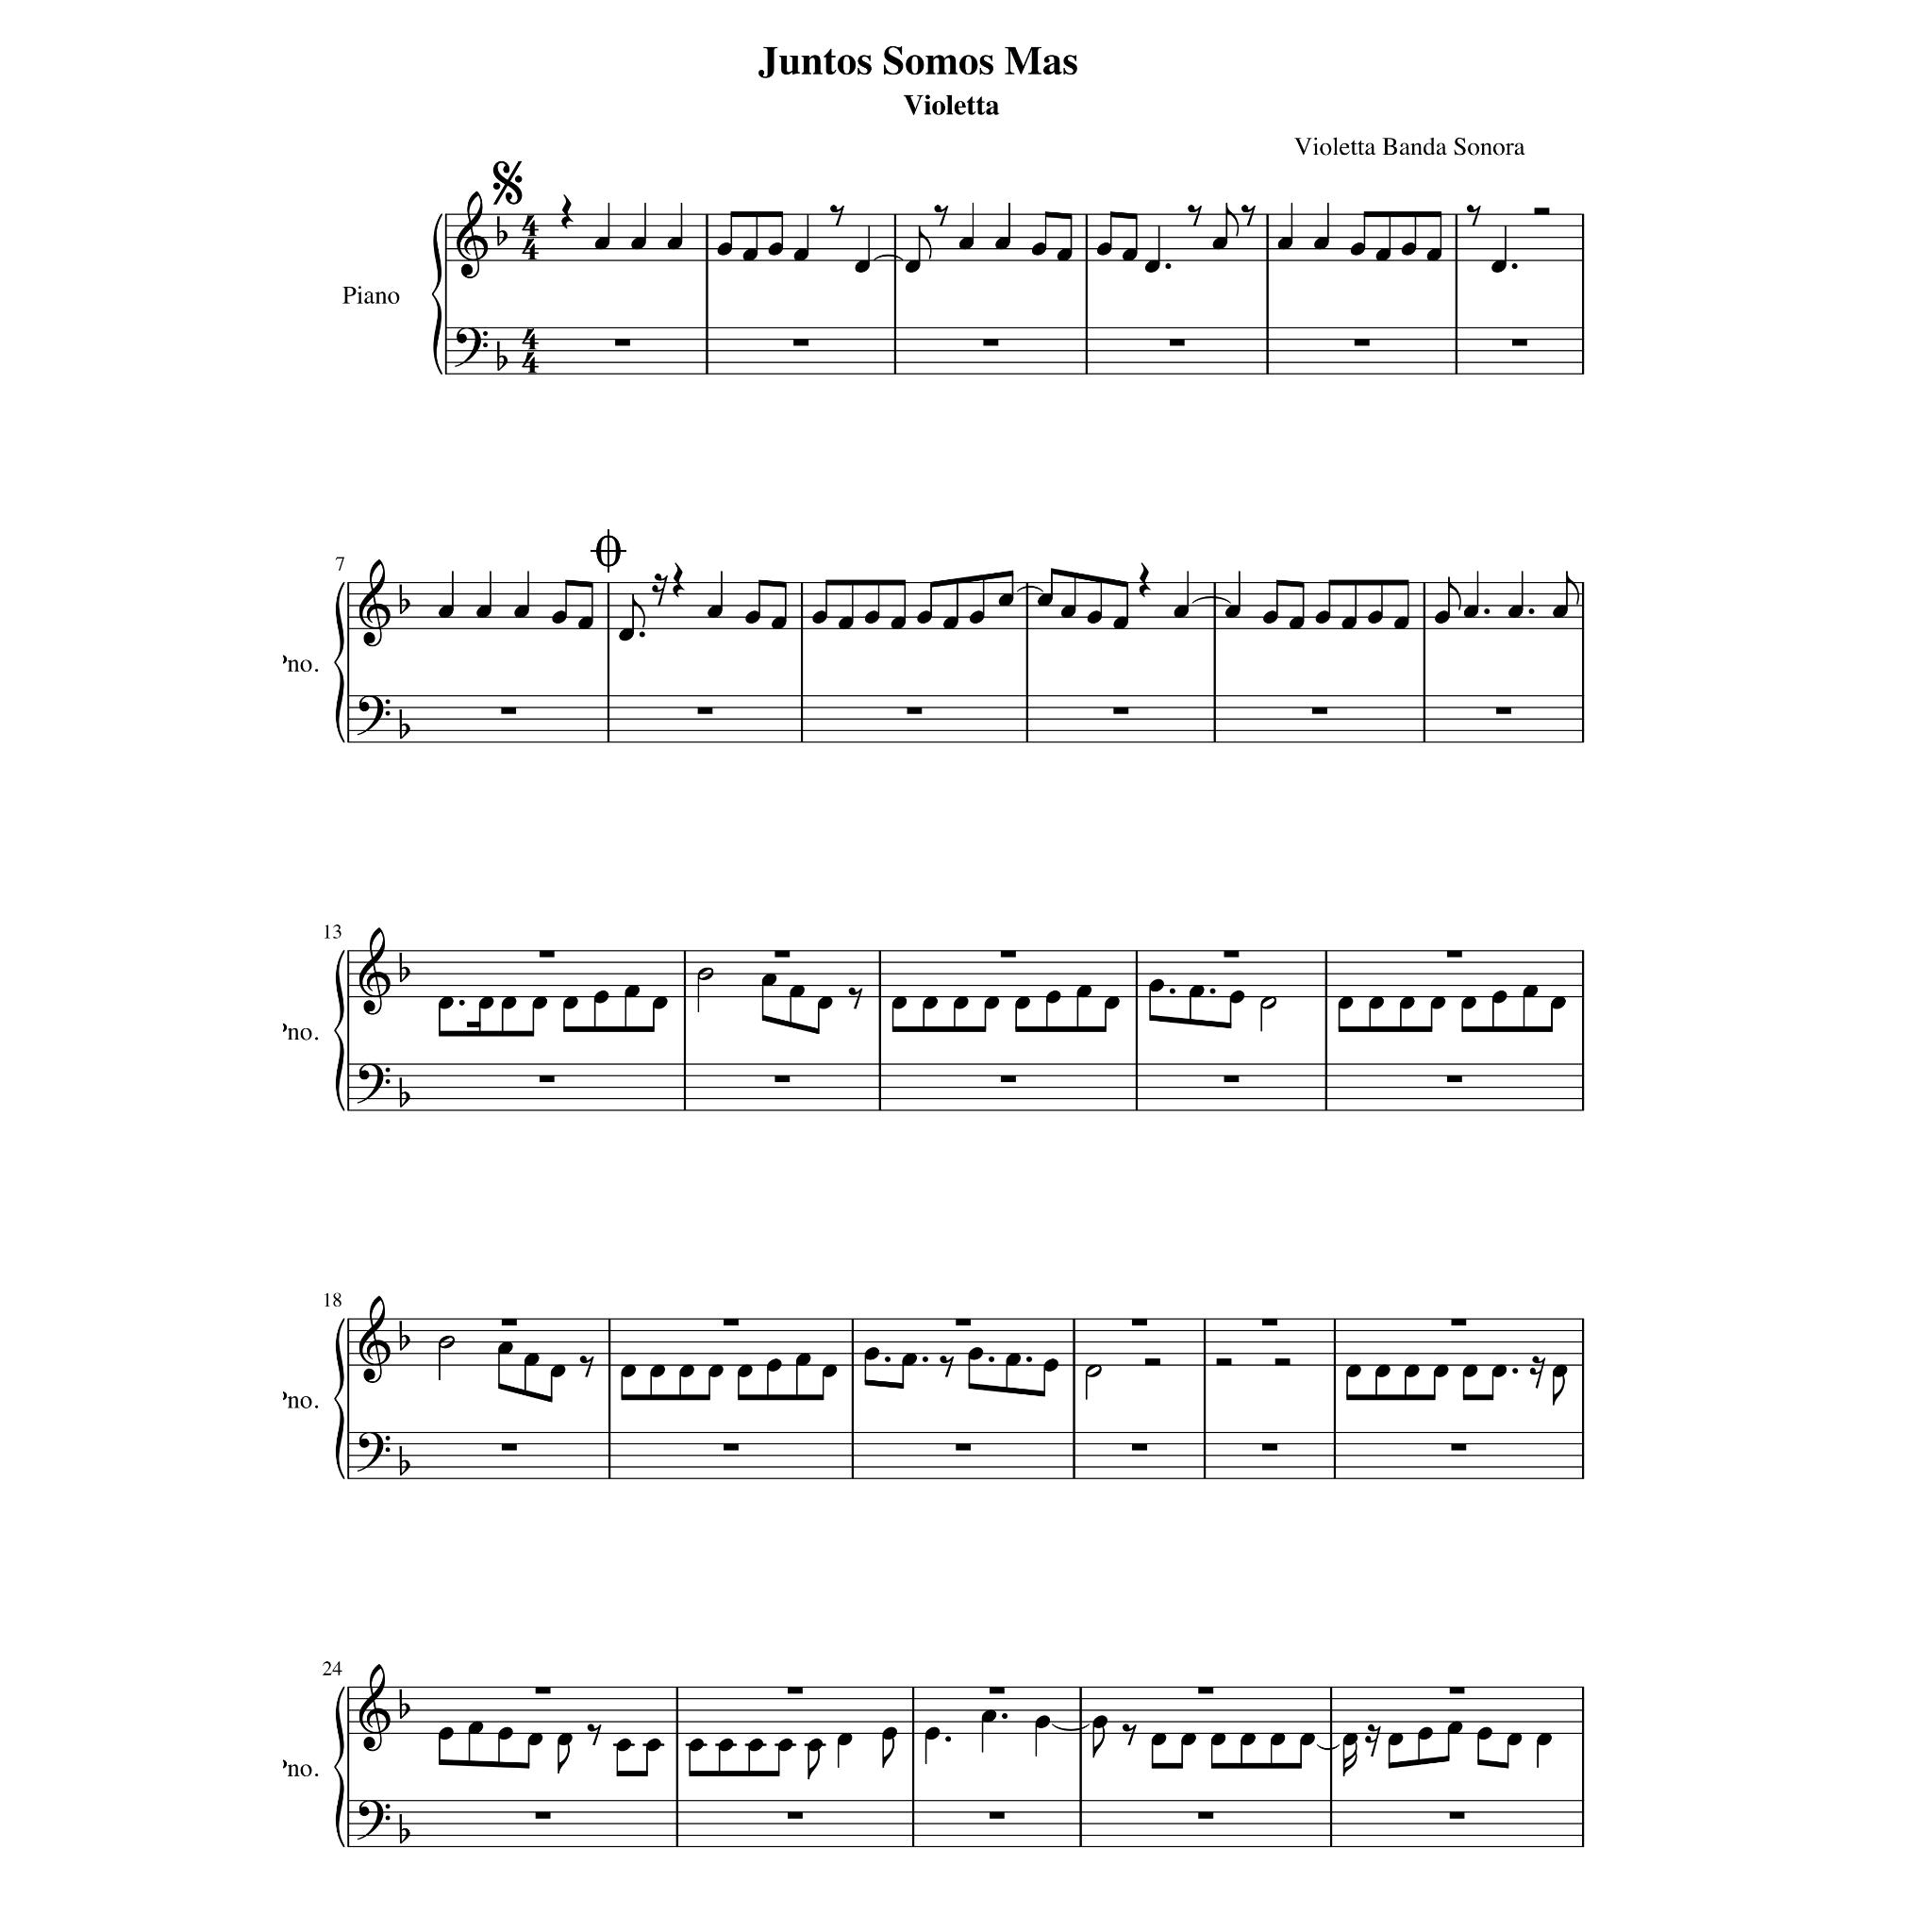brace: (333, 580, 345, 743), (333, 950, 345, 1113), (333, 1318, 345, 1481), (333, 1686, 345, 1849), (432, 214, 442, 375)
fClef: (453, 327, 488, 368), (357, 695, 391, 736), (357, 1063, 391, 1104), (357, 1431, 391, 1472), (357, 1799, 391, 1840)
flag16thDown: (1343, 1743, 1357, 1776)
flag8thDown: (1552, 1371, 1564, 1407), (1093, 1723, 1106, 1759), (809, 1744, 821, 1780), (557, 1739, 570, 1773), (883, 1734, 895, 1767)
flag8thUp: (1447, 577, 1461, 612), (918, 226, 932, 260), (1566, 571, 1580, 605), (632, 594, 646, 628), (1226, 203, 1238, 237)
gClef: (456, 191, 488, 280), (359, 559, 391, 648), (359, 927, 391, 1016), (359, 1295, 391, 1384), (359, 1663, 391, 1752)
noteheadBlack: (1313, 237, 1330, 251), (630, 237, 648, 251), (957, 237, 975, 251), (1014, 996, 1031, 1010), (531, 996, 548, 1010), (816, 996, 833, 1010), (1341, 1732, 1359, 1746), (1299, 1732, 1316, 1746), (1277, 237, 1293, 251), (1122, 248, 1138, 262), (1212, 237, 1228, 251), (1145, 260, 1161, 274), (1490, 260, 1506, 274), (1426, 248, 1442, 262), (1375, 248, 1391, 262), (667, 237, 683, 251), (793, 248, 809, 262), (741, 248, 757, 262), (594, 237, 610, 251), (994, 237, 1010, 251), (1056, 248, 1072, 262), (855, 260, 870, 274), (904, 260, 920, 274), (1037, 593, 1053, 607), (619, 628, 635, 642), (998, 593, 1014, 607), (1338, 996, 1353, 1010), (1104, 996, 1120, 1010), (1148, 978, 1164, 993), (1550, 996, 1566, 1010), (1399, 996, 1415, 1010), (1368, 996, 1384, 1010), (1461, 996, 1477, 1010), (1430, 996, 1445, 1010), (563, 996, 579, 1010), (501, 996, 517, 1010), (984, 996, 1000, 1010), (651, 996, 667, 1010), (478, 996, 494, 1010), (437, 996, 453, 1010), (892, 996, 908, 1010), (954, 996, 970, 1010), (922, 996, 938, 1010), (1346, 1364, 1362, 1378), (1552, 1364, 1568, 1378), (1433, 1364, 1449, 1378), (1403, 1364, 1419, 1378), (1375, 1364, 1391, 1378), (1491, 1364, 1507, 1378), (1461, 1364, 1477, 1378), (621, 1364, 637, 1378), (550, 1364, 566, 1378), (649, 1364, 665, 1378), (679, 1364, 695, 1378), (497, 1341, 513, 1355), (863, 1346, 879, 1361), (821, 1364, 837, 1378), (738, 1364, 754, 1378), (968, 1346, 984, 1361), (708, 1364, 724, 1378), (1269, 1732, 1284, 1746), (1240, 1732, 1256, 1746), (1210, 1732, 1226, 1746), (1092, 1714, 1108, 1729), (1180, 1732, 1196, 1746), (1150, 1732, 1166, 1746), (1536, 1732, 1552, 1746), (1387, 1732, 1403, 1746), (1477, 1727, 1493, 1741), (1417, 1727, 1433, 1741), (557, 1732, 573, 1746), (527, 1732, 543, 1746), (497, 1727, 513, 1741), (437, 1727, 453, 1741), (924, 1727, 939, 1741), (881, 1727, 897, 1741), (980, 1709, 996, 1723), (1228, 991, 1246, 1003), (1042, 1359, 1060, 1371), (901, 1353, 918, 1366), (644, 1739, 662, 1752), (1035, 1714, 1049, 1729), (1507, 1732, 1522, 1746), (837, 1732, 851, 1746), (1350, 242, 1366, 255), (1401, 242, 1417, 255), (717, 242, 732, 255), (768, 242, 784, 255), (1097, 242, 1113, 255), (1031, 242, 1047, 255), (1224, 605, 1240, 617), (1315, 610, 1330, 623), (1288, 617, 1304, 630), (1263, 610, 1279, 623), (1060, 605, 1076, 617), (1173, 605, 1189, 617), (1113, 617, 1129, 630), (1086, 610, 1102, 623), (1552, 605, 1568, 617), (1507, 605, 1523, 617), (1433, 610, 1449, 623), (1368, 610, 1384, 623), (1341, 617, 1357, 630), (1463, 605, 1479, 617), (579, 617, 594, 630), (708, 605, 724, 617), (552, 610, 568, 623), (513, 605, 529, 617), (476, 605, 492, 617), (437, 605, 453, 617), (745, 610, 761, 623), (941, 617, 957, 630), (839, 617, 855, 630), (890, 617, 906, 630), (916, 610, 932, 623), (863, 610, 879, 623), (770, 617, 786, 630), (968, 610, 984, 623), (812, 610, 828, 623), (1189, 985, 1205, 998), (1076, 985, 1092, 998), (1046, 991, 1062, 1003), (1522, 985, 1537, 998), (1491, 991, 1507, 1003), (593, 991, 609, 1003), (625, 985, 640, 998), (789, 985, 805, 998), (761, 973, 777, 985), (1005, 1353, 1021, 1366), (524, 1353, 540, 1366), (766, 1359, 782, 1371), (794, 1353, 810, 1366), (1447, 1721, 1463, 1734), (616, 1739, 632, 1752), (688, 1739, 704, 1752), (467, 1721, 483, 1734), (807, 1739, 823, 1752), (748, 1739, 764, 1752), (718, 1739, 734, 1752), (777, 1739, 793, 1752), (1394, 617, 1408, 630)
noteheadHalf: (697, 968, 715, 982), (1085, 1364, 1102, 1378), (1260, 996, 1276, 1010), (437, 1336, 455, 1348)
rest16th: (651, 573, 669, 607), (1529, 1355, 1546, 1389), (1364, 1723, 1382, 1757)
rest8th: (1240, 205, 1256, 228), (932, 205, 948, 228), (847, 987, 863, 1010), (579, 1355, 594, 1378), (1122, 1723, 1138, 1746), (1187, 205, 1201, 228), (1467, 205, 1481, 228), (830, 205, 844, 228), (939, 1355, 954, 1378), (587, 1723, 602, 1746)
restHalf: (1534, 207, 1550, 216), (1274, 1359, 1290, 1366), (1215, 1359, 1231, 1366), (1145, 1359, 1161, 1366)
restQuarter: (561, 195, 573, 230), (1138, 563, 1150, 598), (672, 563, 685, 598)
restWhole: (773, 950, 791, 959), (1000, 950, 1017, 959), (1223, 950, 1238, 959), (1447, 950, 1463, 959), (538, 950, 554, 959), (724, 1318, 740, 1327), (955, 1318, 971, 1327), (1131, 1318, 1146, 1327), (1261, 1318, 1277, 1327), (1451, 1318, 1467, 1327), (501, 1318, 517, 1327), (787, 1686, 803, 1695), (989, 1686, 1005, 1695), (1198, 1686, 1214, 1695), (1449, 1686, 1465, 1695), (534, 1686, 550, 1695), (1511, 340, 1529, 347), (773, 1076, 791, 1083), (1000, 1076, 1017, 1083), (793, 340, 809, 347), (982, 340, 998, 347), (1168, 340, 1184, 347), (1353, 340, 1369, 347), (614, 340, 630, 347), (697, 708, 713, 715), (906, 708, 922, 715), (1113, 708, 1129, 715), (1311, 708, 1327, 715), (1495, 708, 1511, 715), (501, 708, 517, 715), (1223, 1076, 1238, 1083), (538, 1076, 554, 1083), (1447, 1076, 1463, 1083), (724, 1444, 740, 1451), (955, 1444, 971, 1451), (1131, 1444, 1146, 1451), (1261, 1444, 1277, 1451), (501, 1444, 517, 1451), (1451, 1444, 1467, 1451), (787, 1812, 803, 1819), (989, 1812, 1005, 1819), (1198, 1812, 1214, 1819), (534, 1812, 550, 1819), (1449, 1812, 1465, 1819)
